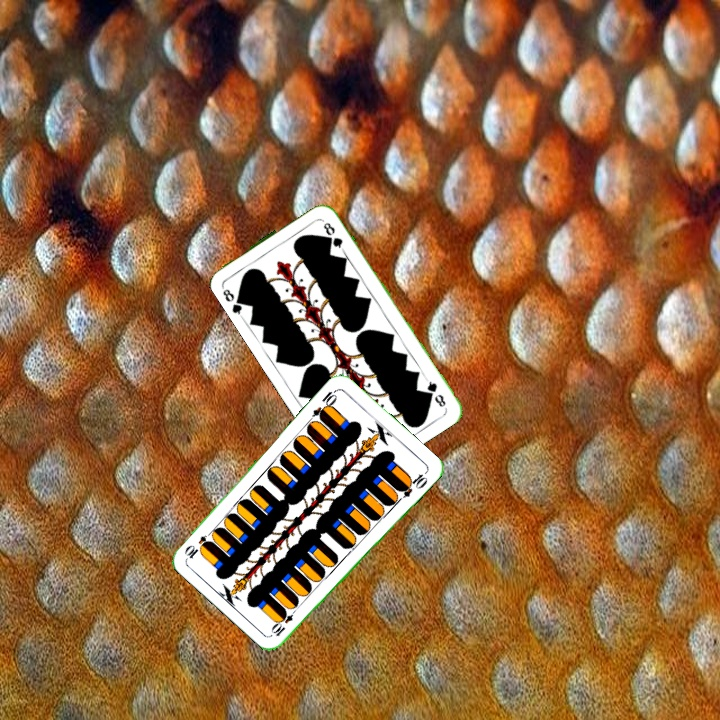E10: (268, 603, 300, 639), (309, 385, 340, 422)
G8: (217, 282, 248, 317), (422, 374, 448, 410)
